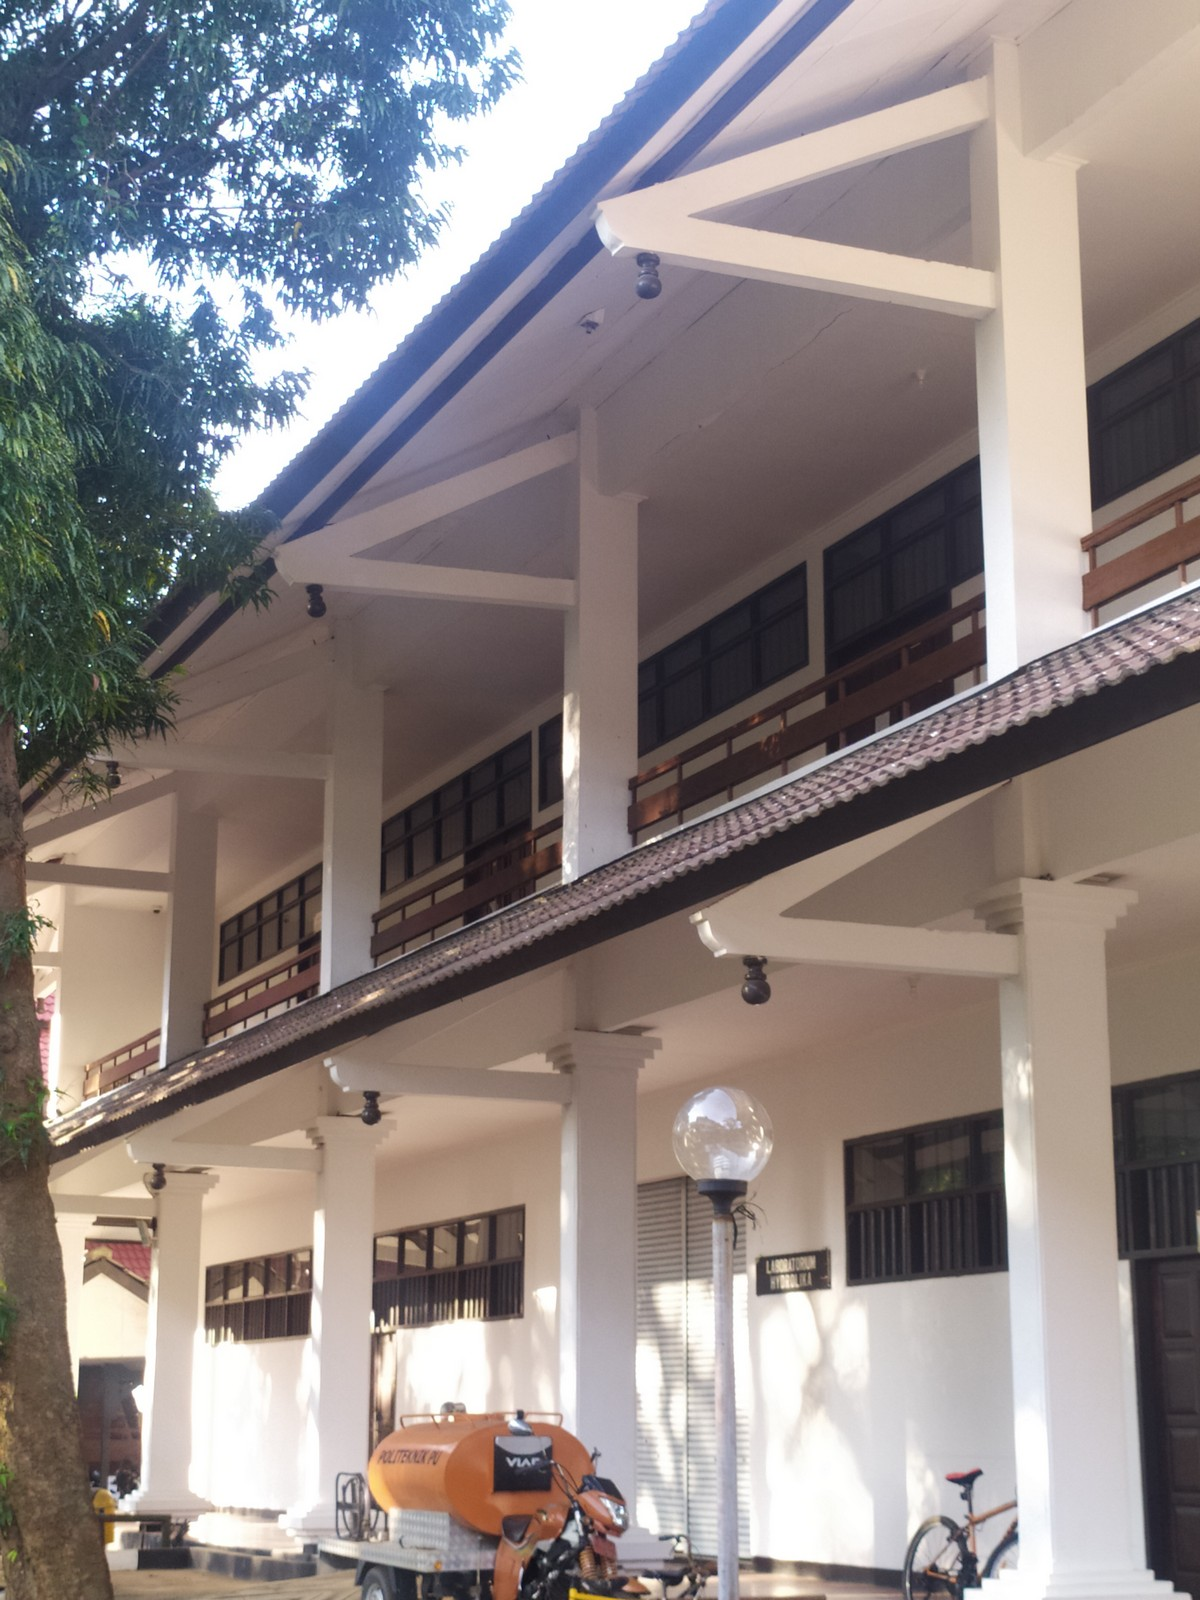concrete beam: (672, 212, 1001, 329), (779, 915, 1034, 986), (345, 551, 584, 625), (379, 1054, 582, 1112), (170, 1138, 329, 1179)
concrete column: (991, 881, 1155, 1575), (958, 58, 1113, 688), (546, 1043, 653, 1513), (548, 420, 650, 876), (304, 1136, 379, 1511), (313, 670, 386, 981), (141, 1186, 211, 1503), (165, 784, 216, 1060)
